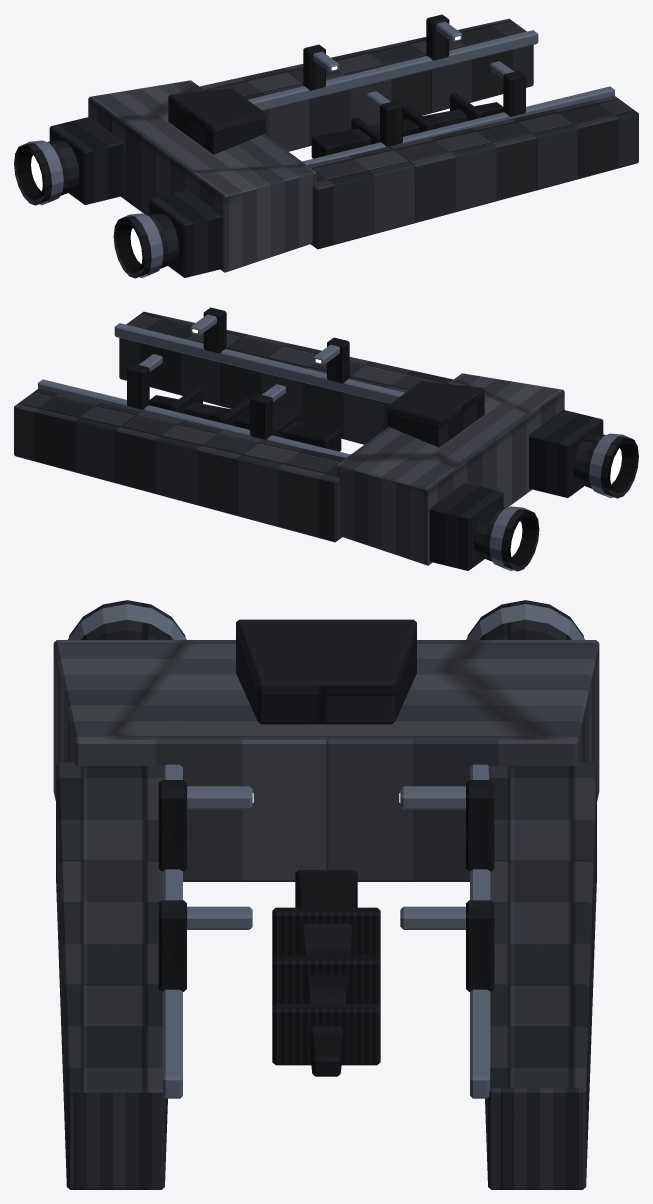
The model's file is tender.glb.
The picture shows the model from 3 angles, top to bottom: view 1: azimuth 30°, elevation 25°; view 2: azimuth 150°, elevation 25°; view 3: azimuth 270°, elevation 25°; orthographic projection. The views are drawn at different scales.
Visible parts, largest first — view 1: tender; view 2: tender; view 3: tender.
Boxes of the visible parts, x1,y1,x2,y2 form: tender: (14,14,638,278); tender: (14,307,638,571); tender: (53,600,599,1189).
Bounding box in the file's own units: 36 × 7.25 × 17.17.
1 material, 1 textured.
